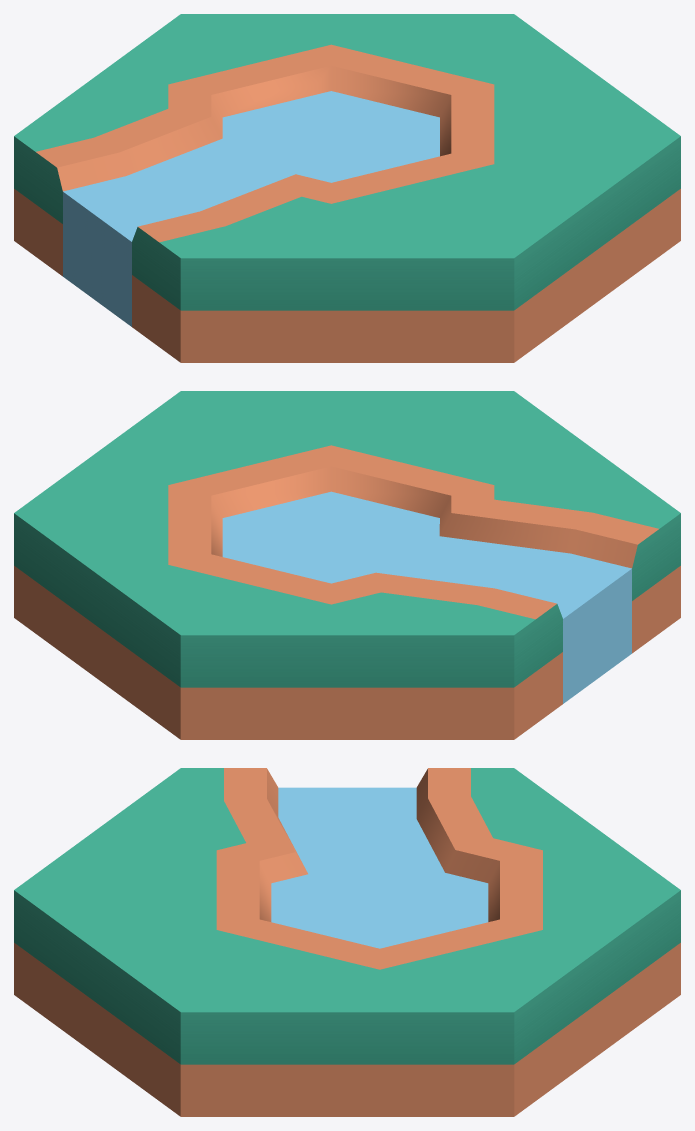
The model's file is river-start.fbx.
3 renders of one model, top to bottom at view 1: azimuth 30°, elevation 25°; view 2: azimuth 150°, elevation 25°; view 3: azimuth 270°, elevation 25°, orthographic.
Parts seen in each view (by area): view 1: river_start; view 2: river_start; view 3: river_start.
Boxes of the visible parts, <box> form: river_start: <box>14,14,680,362</box>; river_start: <box>14,391,680,739</box>; river_start: <box>14,768,680,1116</box>.
Bounding box in the file's own units: 100 × 20 × 115.
1 material, 1 textured.
